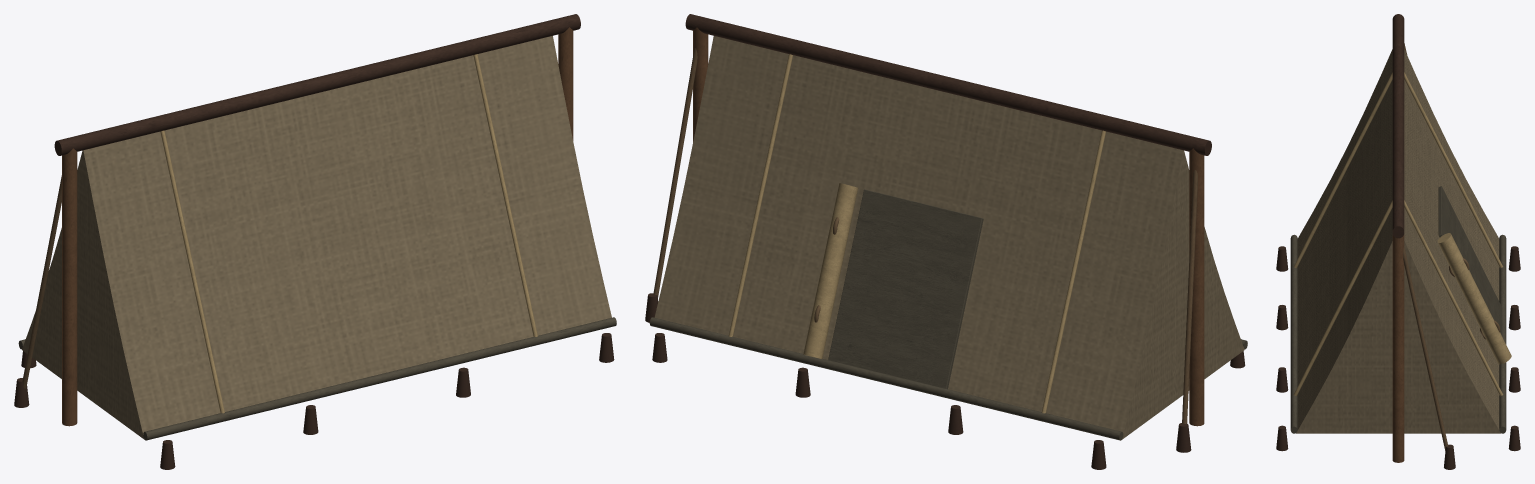
The model's file is scout_tent.glb.
3 views of the same model, side by side, from view 1: azimuth 30°, elevation 25°; view 2: azimuth 150°, elevation 25°; view 3: azimuth 270°, elevation 25° (orthographic). The views are drawn at different scales.
Parts seen in each view (by area): view 1: scout_tent; view 2: scout_tent; view 3: scout_tent.
Part boxes in pixels (<box>): scout_tent: <box>14,14,616,469</box>; scout_tent: <box>645,14,1247,469</box>; scout_tent: <box>1276,14,1520,469</box>.
Bounding box in the file's own units: 2.8 × 1.4 × 1.3.
Materials: 1 (1 with a texture image).
